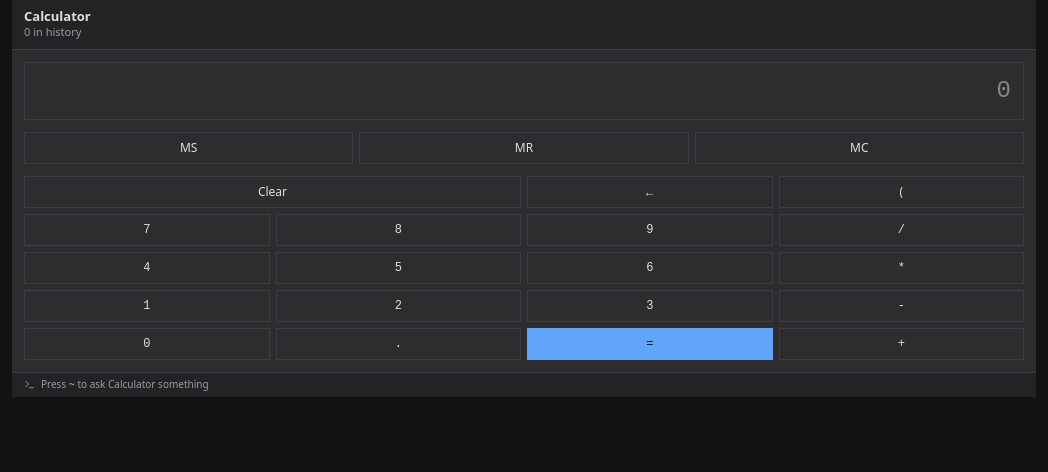
apps respond to being used › Calculator computes an expression
In the field: (524, 91) x1=37 y1=75 x2=1011 y2=107, type "12*3"
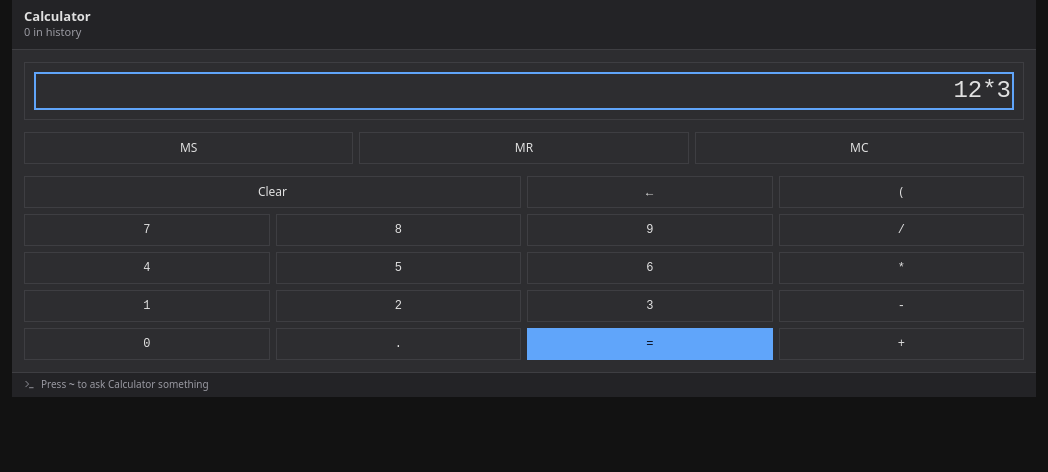
Press Enter
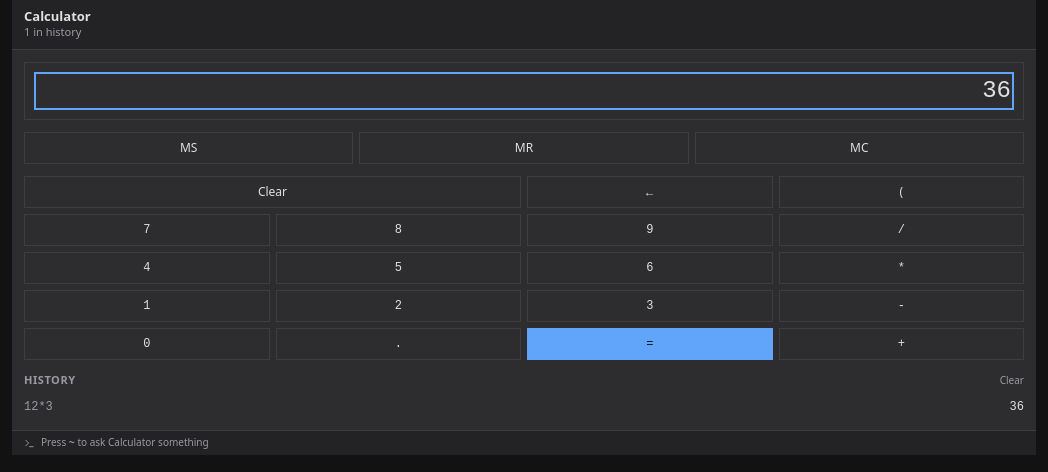
Check: the text "36" is shown, box x1=1010 y1=400 x2=1024 y2=414
